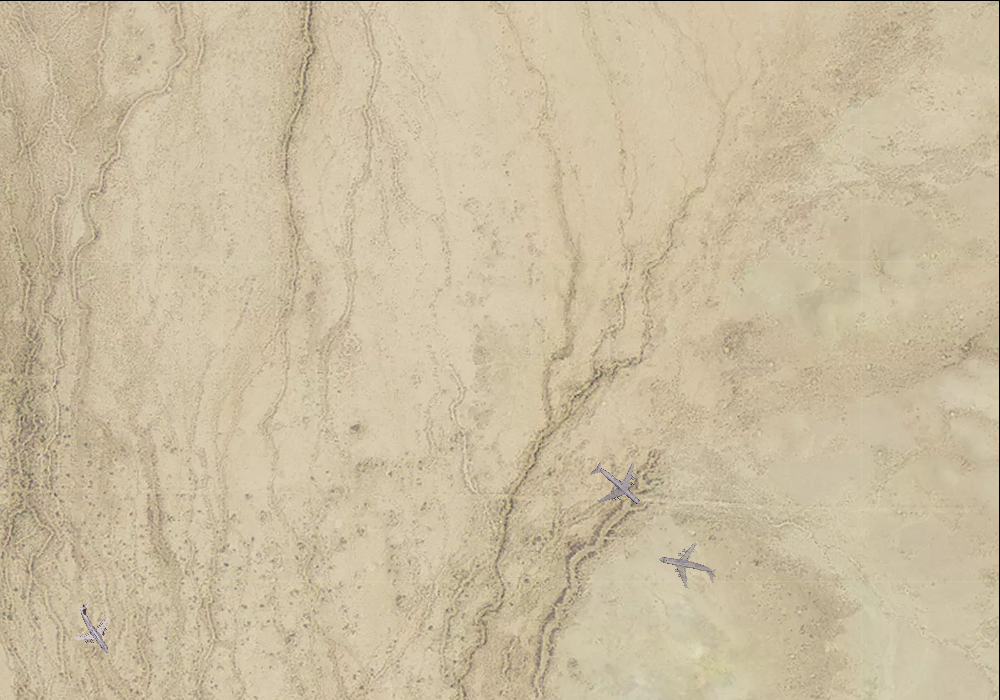plane: (576, 444, 658, 526), (58, 592, 129, 665), (653, 535, 722, 599)
